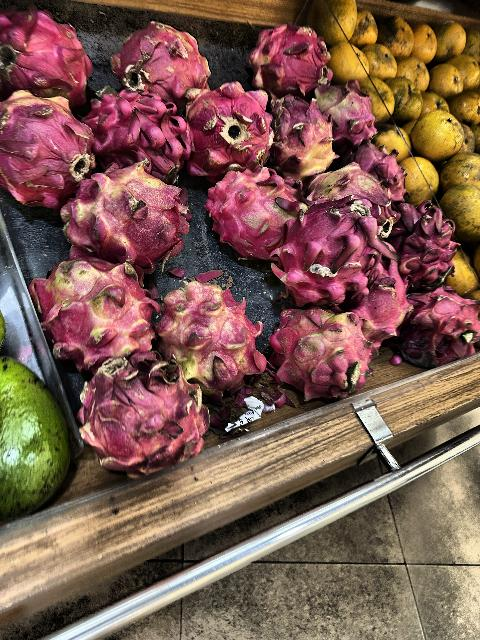buah-naga-belum-matang: (63, 161, 192, 261), (31, 255, 154, 359), (158, 280, 252, 394), (270, 310, 382, 398), (1, 90, 92, 192), (311, 159, 397, 223), (279, 92, 337, 170), (316, 81, 377, 140), (364, 258, 404, 344)
buah-naga-matang: (72, 356, 202, 456), (283, 192, 379, 300), (85, 88, 188, 172), (113, 18, 209, 96), (184, 86, 270, 164), (0, 16, 88, 90), (390, 202, 462, 286), (406, 287, 480, 363), (211, 174, 287, 240), (252, 24, 330, 88), (348, 139, 408, 193)
